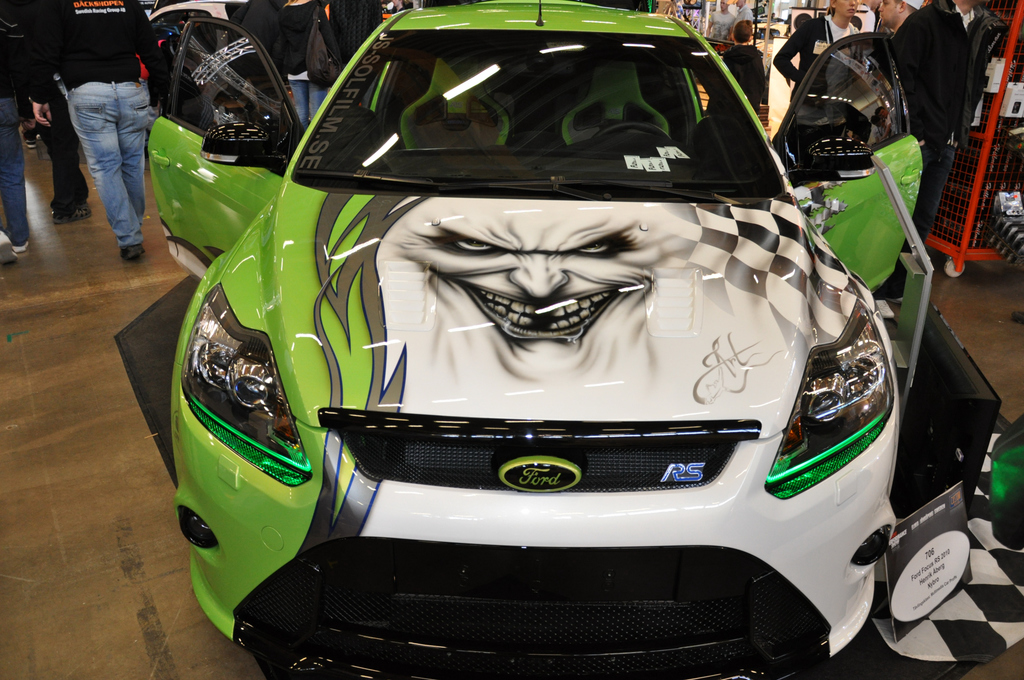Person: (0, 0, 989, 317)
